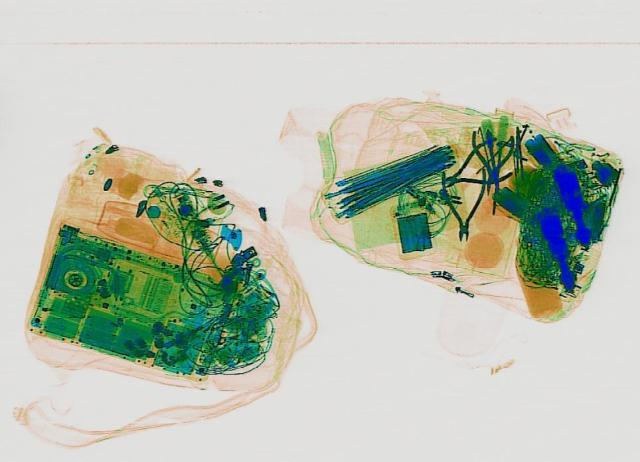Pliers: (423, 136, 525, 199), (462, 129, 518, 214), (438, 167, 486, 239)
